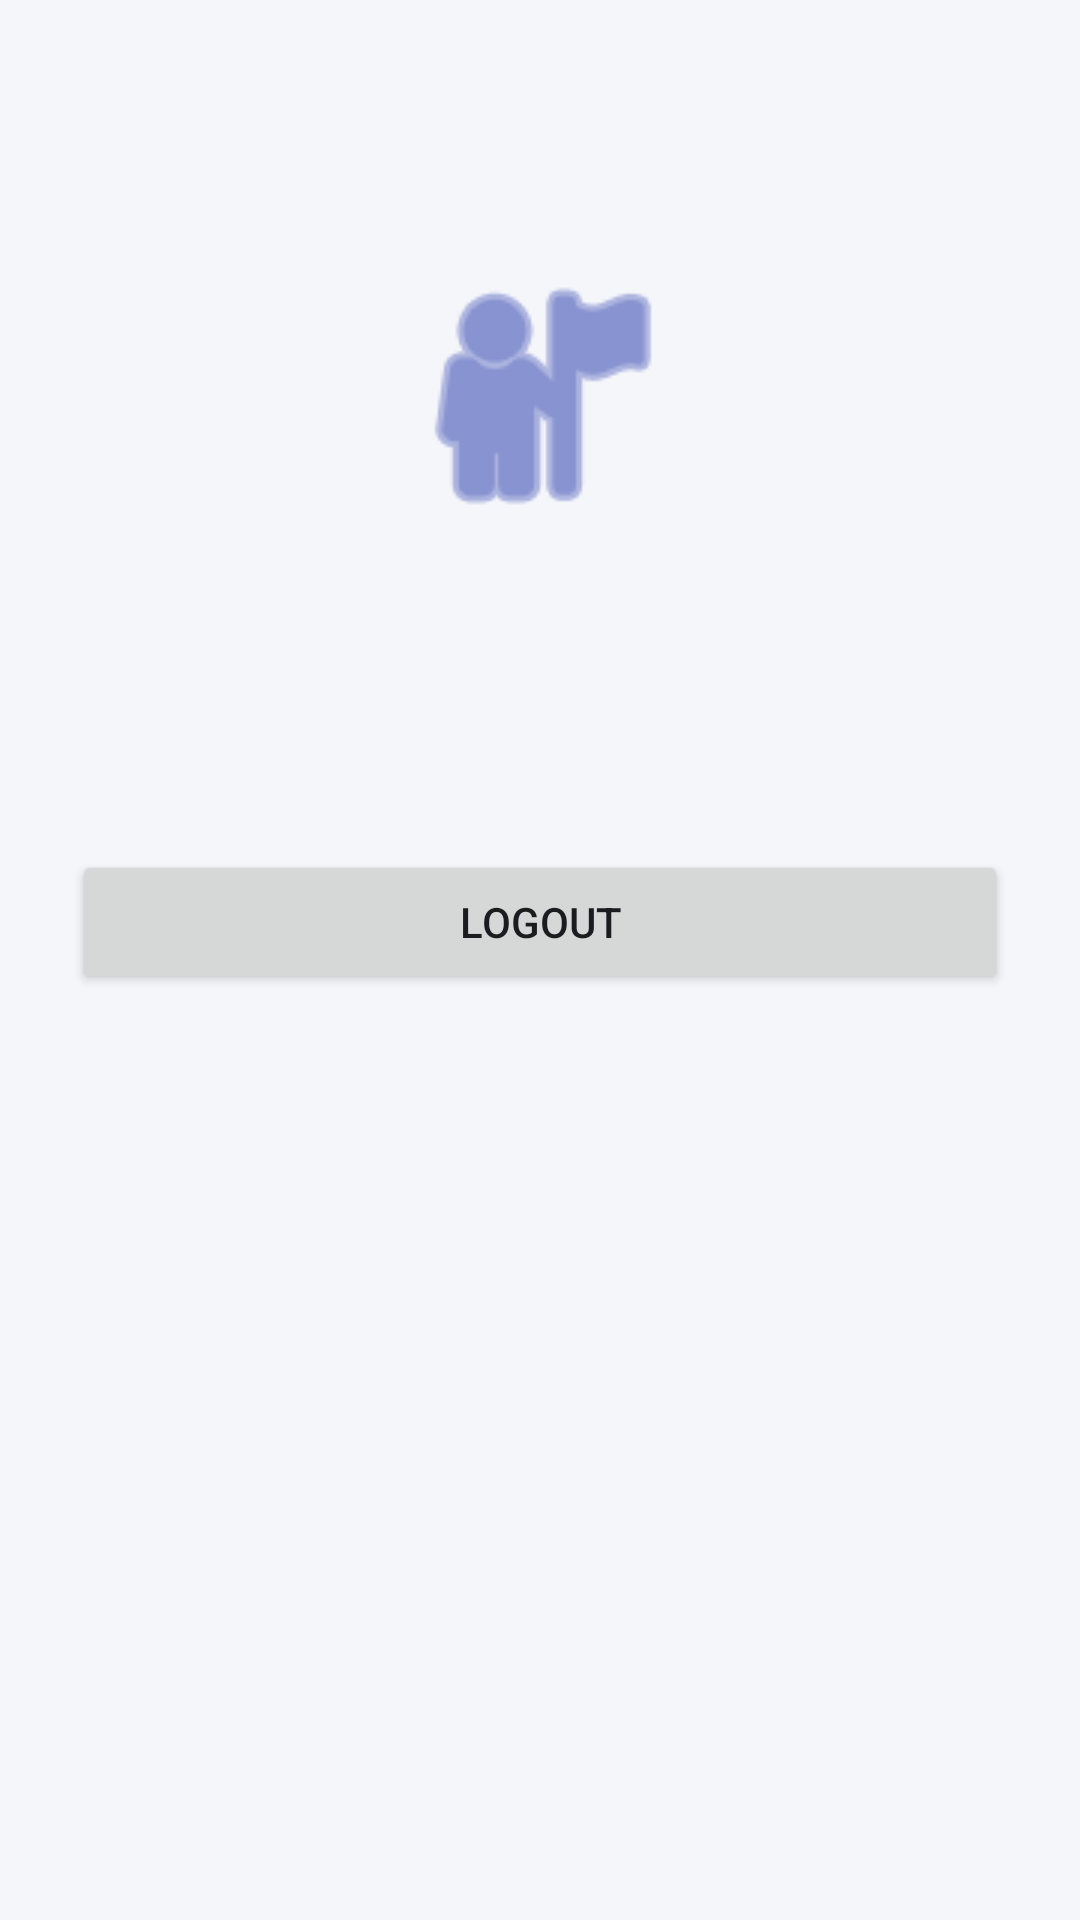

Screen size 1080px×1920px. Icon name, then its box in pixels as (x1, y1, x2, y2):
Profile: (435, 289, 651, 503)
